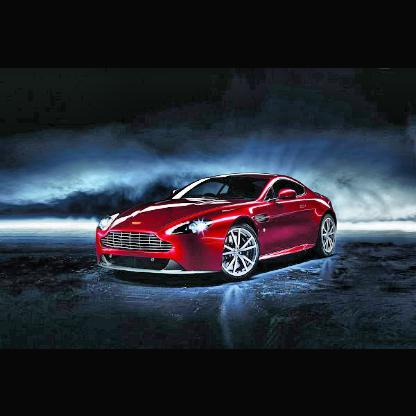Aston Martin V8 Vantage Coupe 2012: (98, 173, 339, 279)
